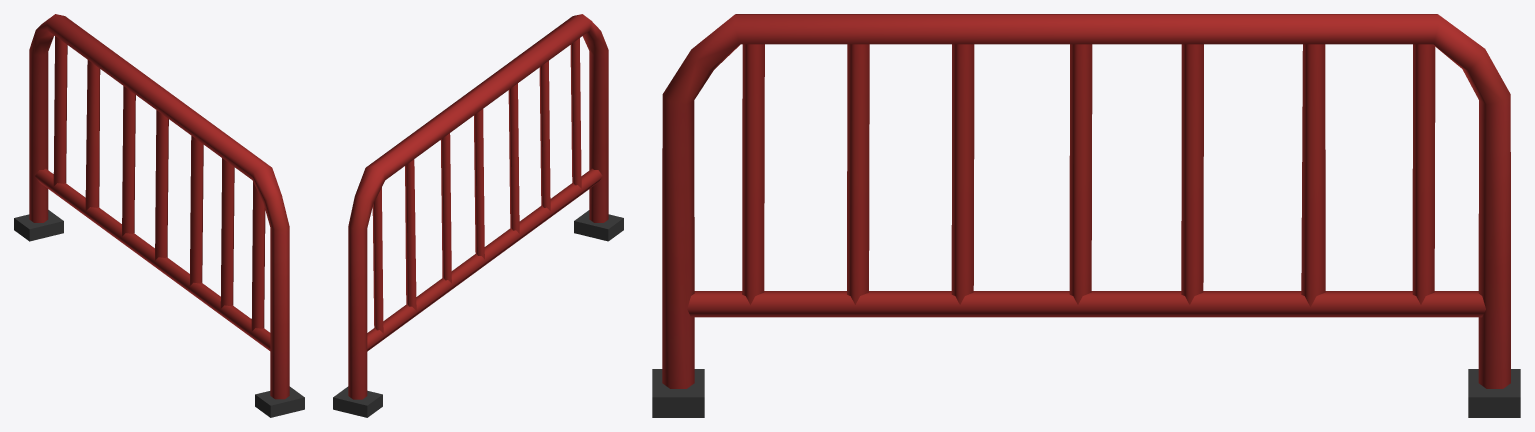
Rendered from Barier_4_C.fbx.
3 renders of one model, left to right at view 1: azimuth 30°, elevation 25°; view 2: azimuth 150°, elevation 25°; view 3: azimuth 270°, elevation 25°, orthographic. The views are drawn at different scales.
Parts seen in each view (by area): view 1: Barier_4_C; view 2: Barier_4_C; view 3: Barier_4_C.
Boxes of the visible parts, box(x1,y1,x2,y2) form: Barier_4_C: box(14, 14, 304, 417); Barier_4_C: box(333, 14, 623, 417); Barier_4_C: box(652, 14, 1520, 417).
Bounding box in the file's own units: 15.74 × 101 × 204.
